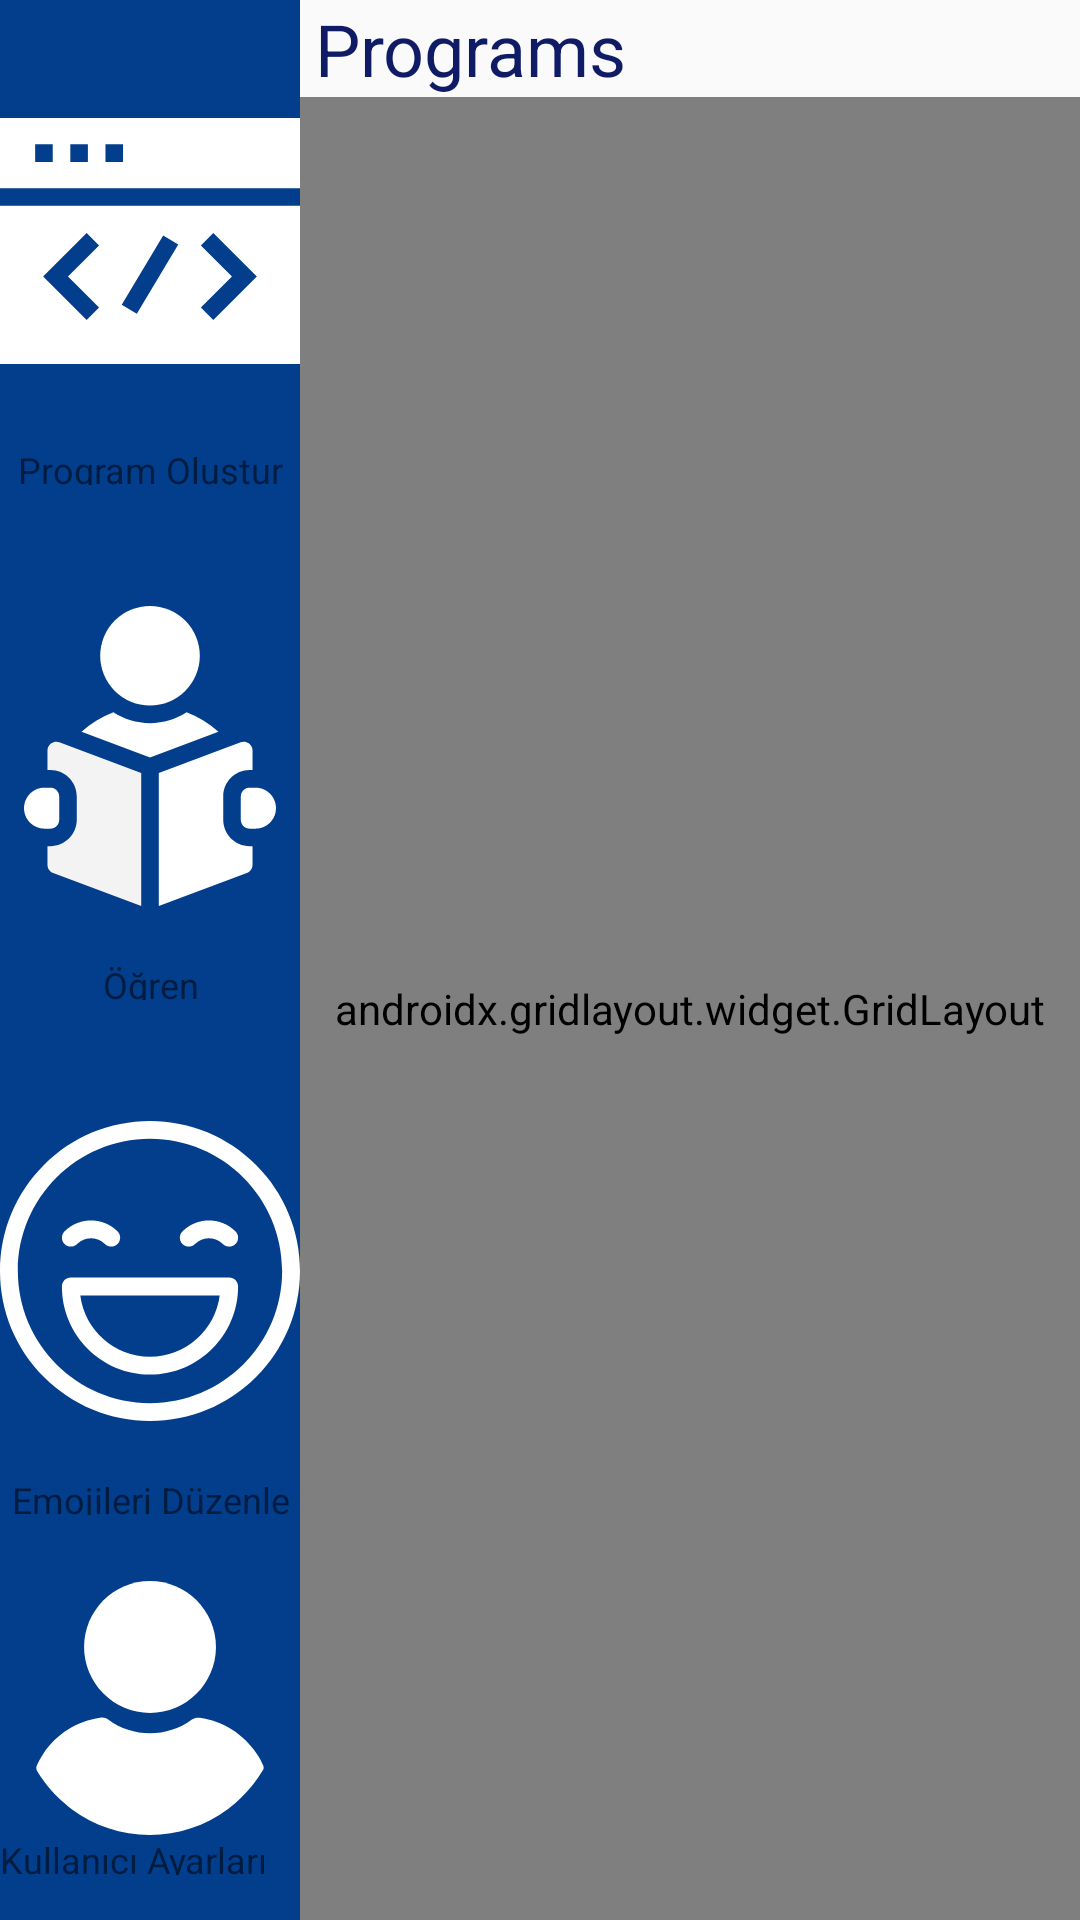

Icon click points for this 1080 × 1920 phone screenshot, format (x=x, y=y):
happy: (x=150, y=1271)
